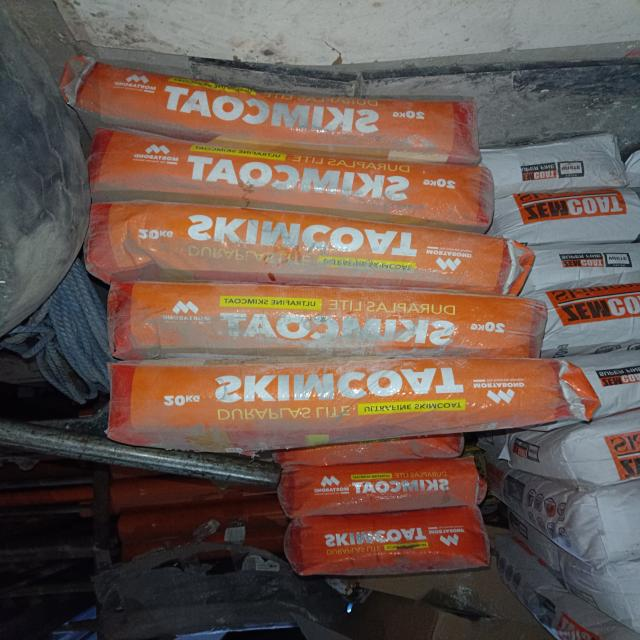Skim coat: (111, 367, 579, 441), (114, 298, 554, 362), (98, 228, 506, 275), (103, 158, 511, 205), (94, 92, 502, 139), (294, 514, 480, 578), (296, 458, 475, 512)
